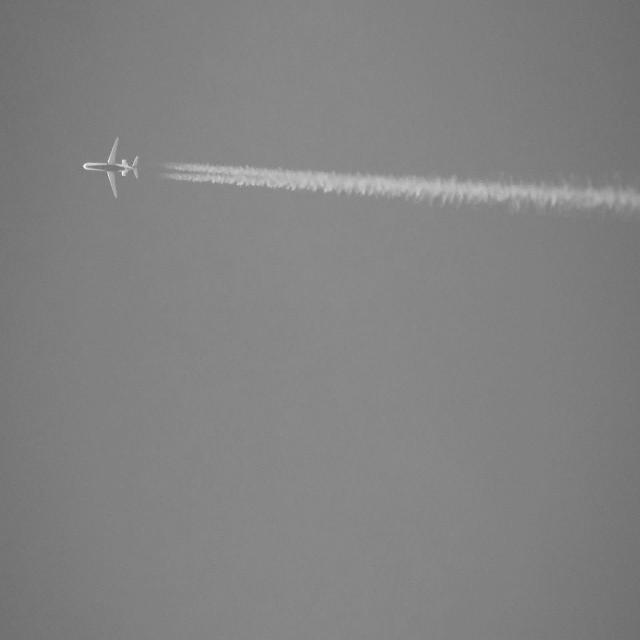aeroplane: (78, 135, 142, 202)
